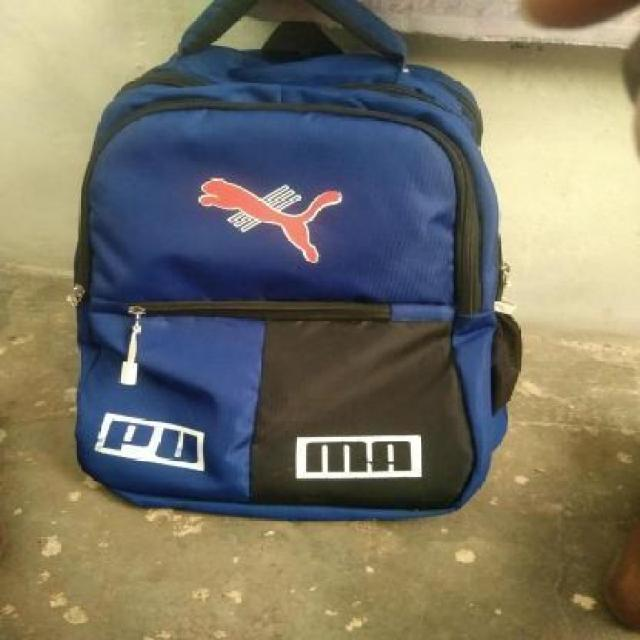backpack: (64, 0, 530, 529)
